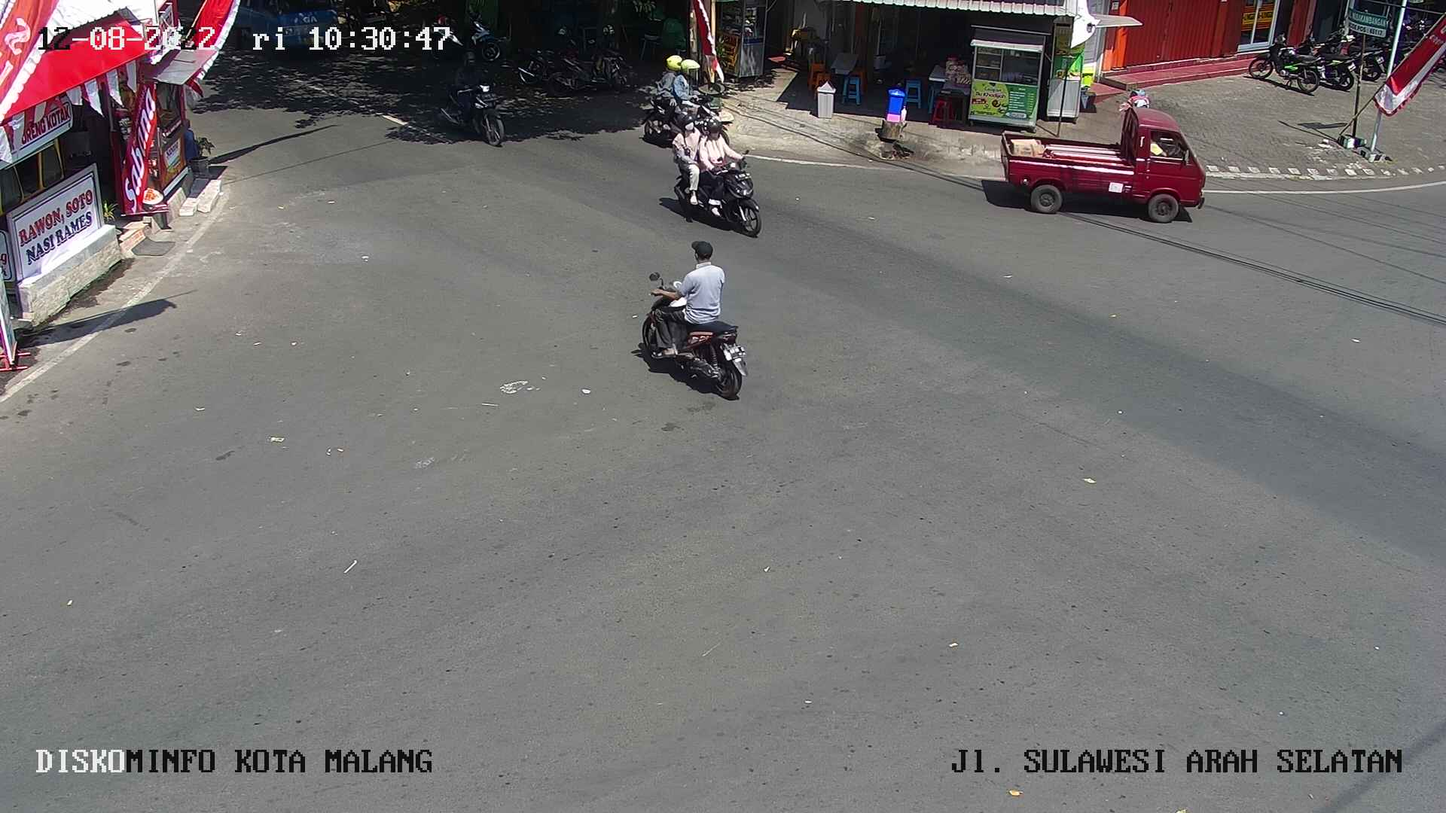with_helmet: (656, 105, 778, 241), (633, 38, 721, 135)
without_helmet: (603, 236, 761, 412)
